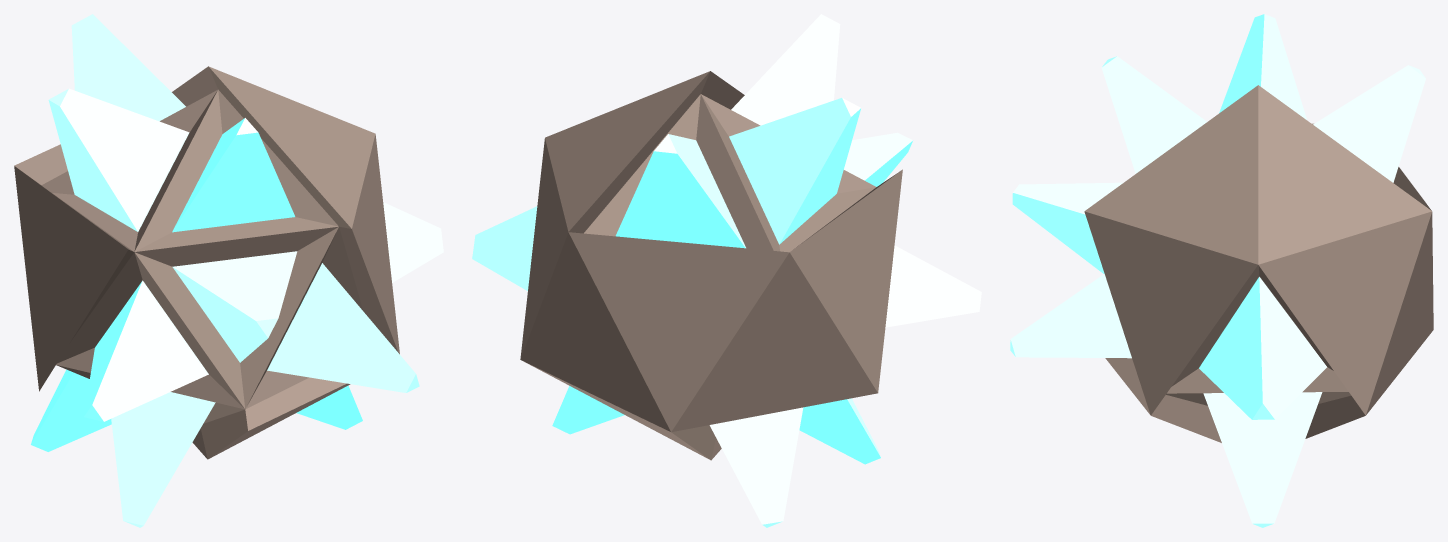
The model's file is timecontrolling machine.fbx.
3 renders of one model, left to right at view 1: azimuth 30°, elevation 25°; view 2: azimuth 150°, elevation 25°; view 3: azimuth 270°, elevation 25°, orthographic. The views are drawn at different scales.
Parts seen in each view (by area): view 1: Icosphere; view 2: Icosphere; view 3: Icosphere.
Part boxes in pixels (x1,y1,x2,y2): Icosphere: [14, 14, 443, 527]; Icosphere: [472, 14, 981, 527]; Icosphere: [1010, 14, 1433, 527].
Bounding box in the file's own units: 230 × 210 × 205.
